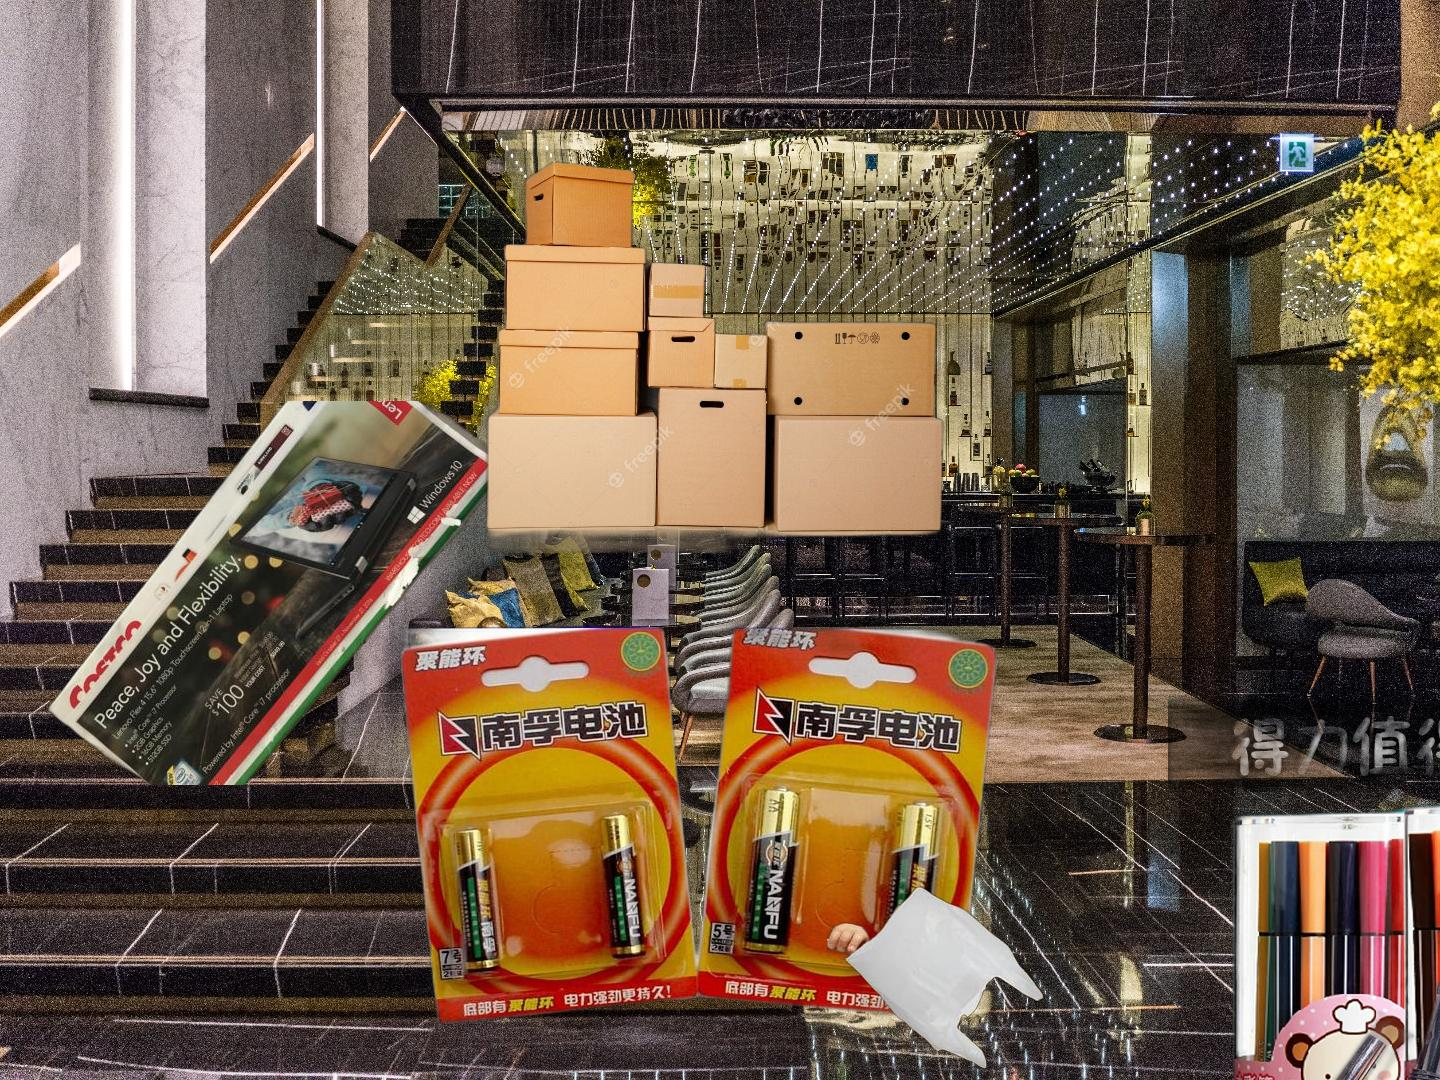battery: (399, 614, 997, 1028)
paper: (43, 400, 509, 785)
penholder: (1168, 668, 1440, 1080), (1078, 967, 1440, 1080)
plastic-bag: (827, 884, 1047, 1070)
trashbox-cardboard: (478, 158, 954, 552)
